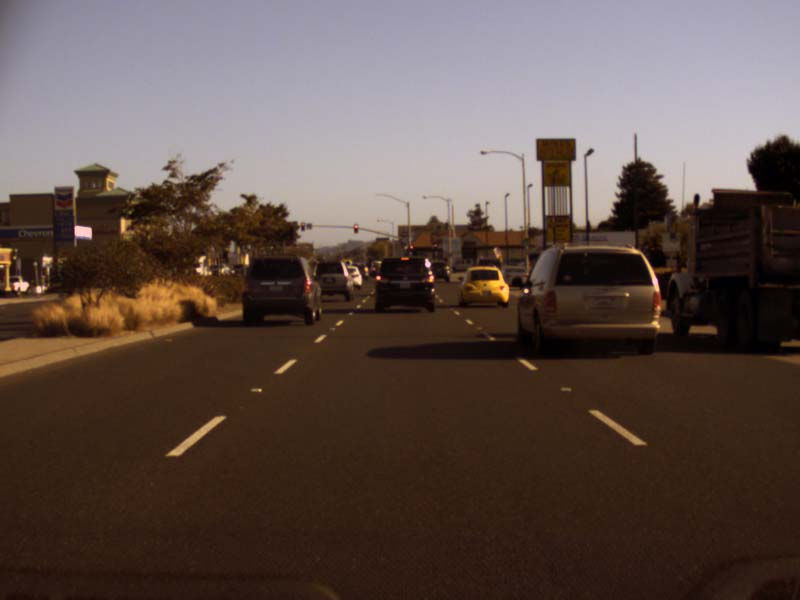Red: (353, 224, 357, 233), (300, 222, 304, 230), (409, 244, 412, 249)
